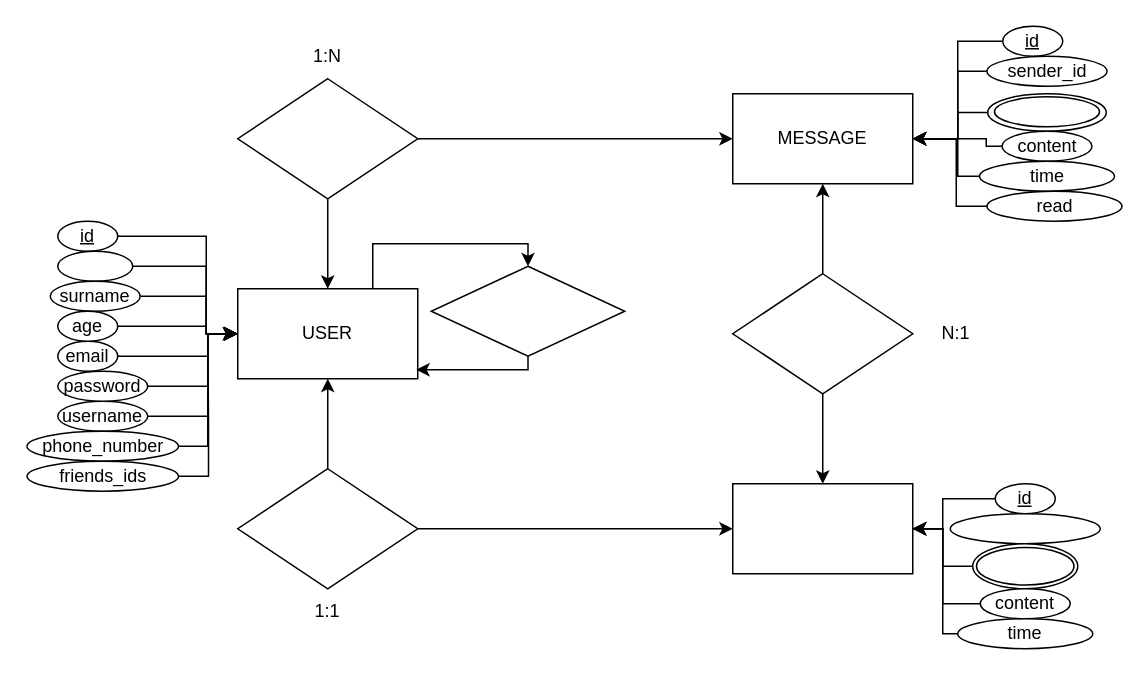
Some shapes in this 1148 by 675 pixel diagram are drawn without their labels. The shapes that lost their labels are listed below. From the top down, each one's box as (x1, y1, x2, y2) in pixels, then its label:
(993, 95, 1100, 127): receiver_id
(236, 77, 418, 199): sends
(56, 250, 133, 281): name
(430, 265, 625, 356): establish_friendship
(731, 272, 913, 394): shows
(236, 467, 418, 589): sees
(731, 482, 913, 574): CHAT
(949, 512, 1100, 544): message_count
(975, 546, 1074, 585): users_id
